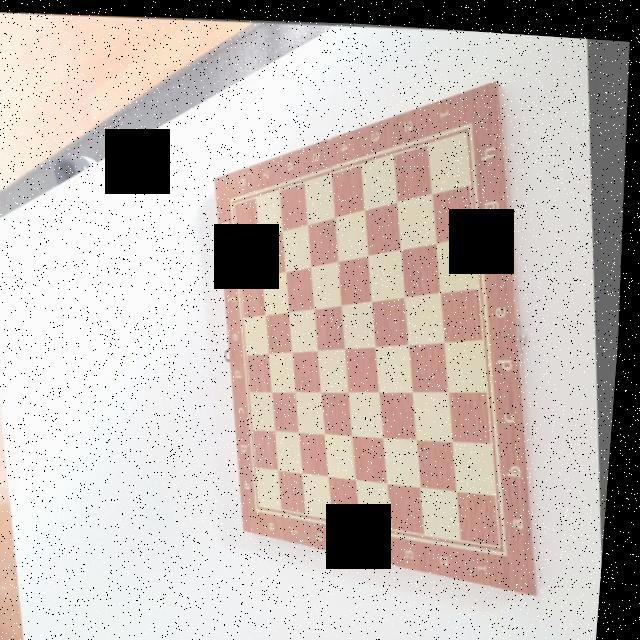chess-table-corners: (498, 524, 527, 556), (464, 102, 488, 134), (232, 180, 253, 210), (258, 488, 276, 516)
